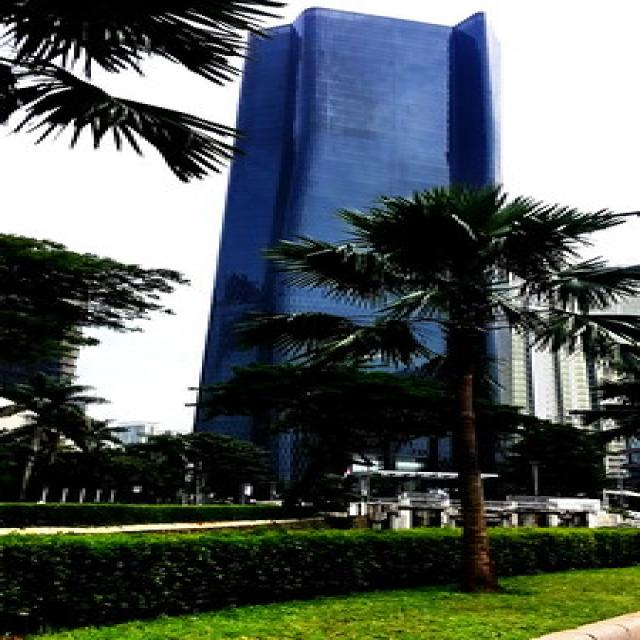building: (176, 8, 529, 520)
